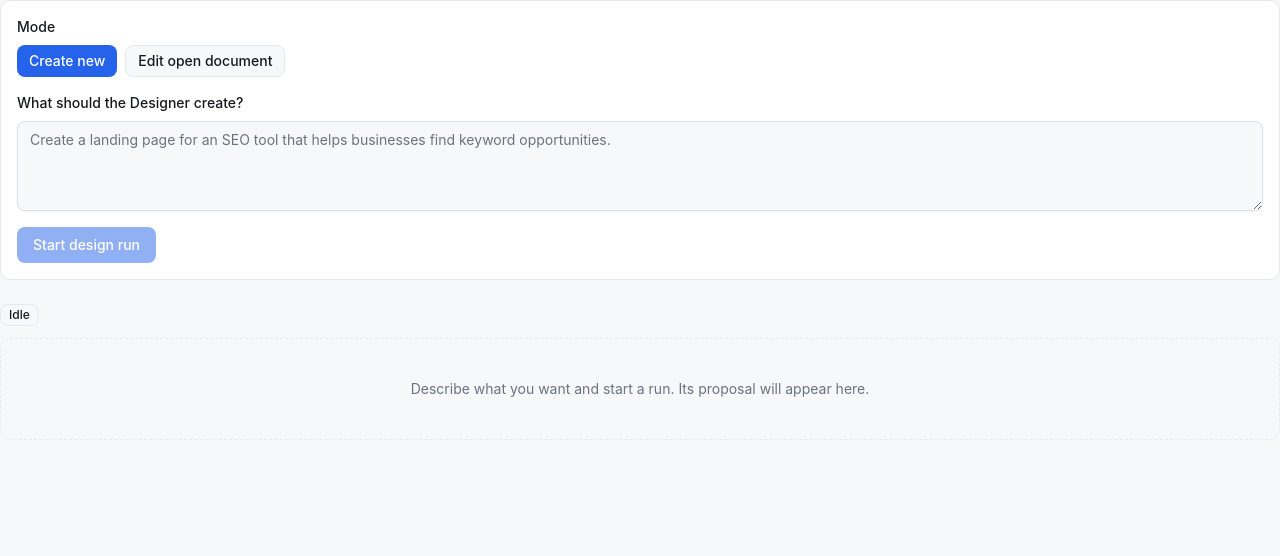
Test: Designer edit + apply (shared workspace document) › shows the open document and its live revision without listing or reading documents
Expected: the text box labelled "What should the Designer create?" is shown, [17,121,1263,211]
What coordinates should you click on to do the following:
click the button "Edit open document"
I would click on:
 (205, 61)
Its box is [125,45,285,77].
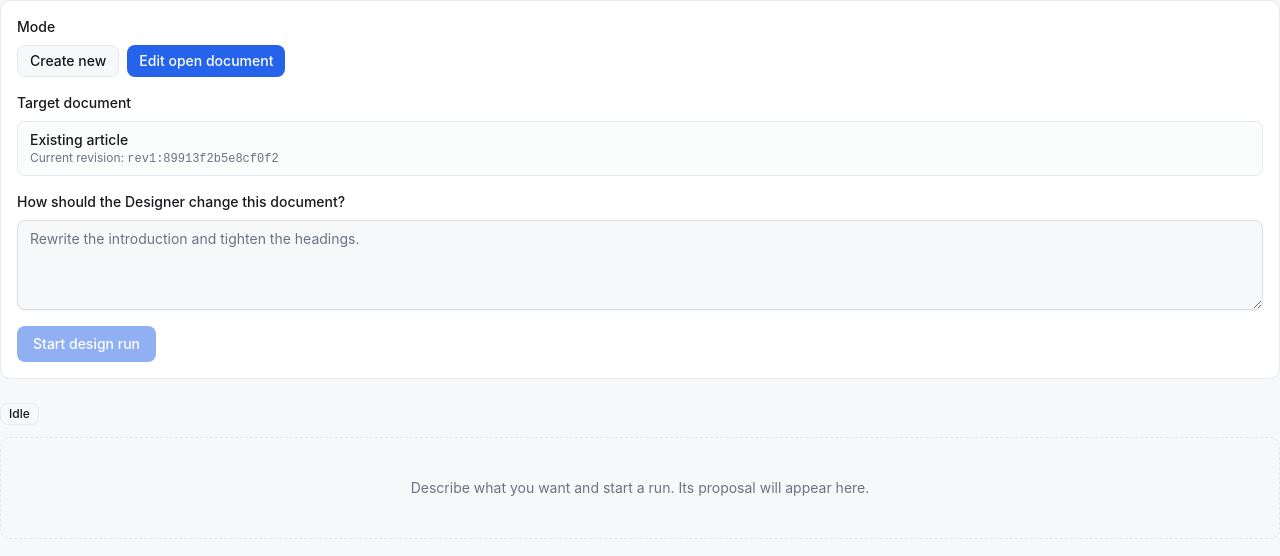
Expected: the text box labelled "How should the Designer change this document?" is shown, [17,220,1263,310]
Expected: the text "Existing article" is shown, [30,131,128,148]
